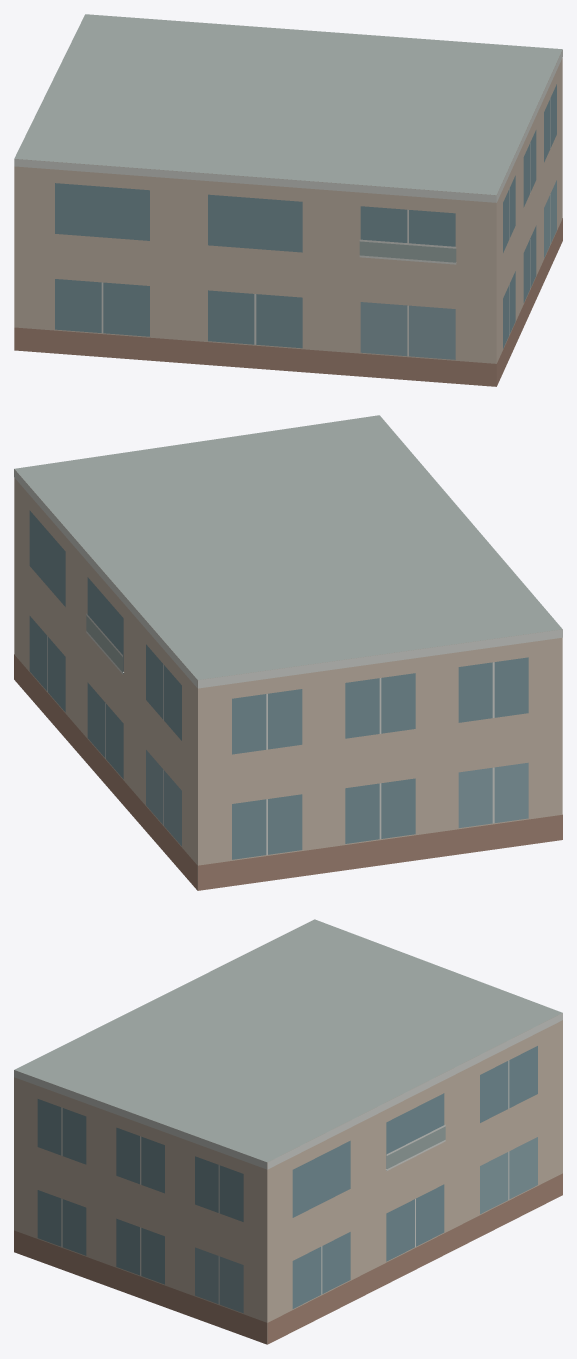
Rendered from survey-upis-32951003.glb.
3 renders of one model, top to bottom at view 1: azimuth 30°, elevation 25°; view 2: azimuth 150°, elevation 25°; view 3: azimuth 270°, elevation 25°, orthographic. The views are drawn at different scales.
Visible parts, largest first — view 1: survey-upis-32951003.tmp; view 2: survey-upis-32951003.tmp; view 3: survey-upis-32951003.tmp.
Boxes of the visible parts, <box> form: survey-upis-32951003.tmp: <box>14,14,562,386</box>; survey-upis-32951003.tmp: <box>14,415,562,890</box>; survey-upis-32951003.tmp: <box>14,919,562,1344</box>.
Size of the model in its own units: 17.46 by 6.1 by 16.65.
